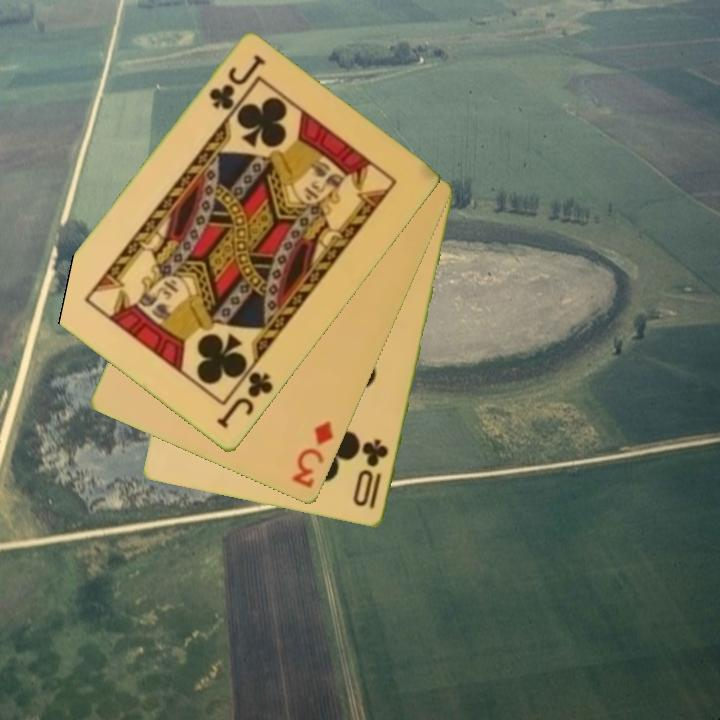10c: (350, 436, 392, 513)
3d: (289, 417, 337, 492)
Jc: (212, 368, 277, 432), (205, 51, 268, 114)
